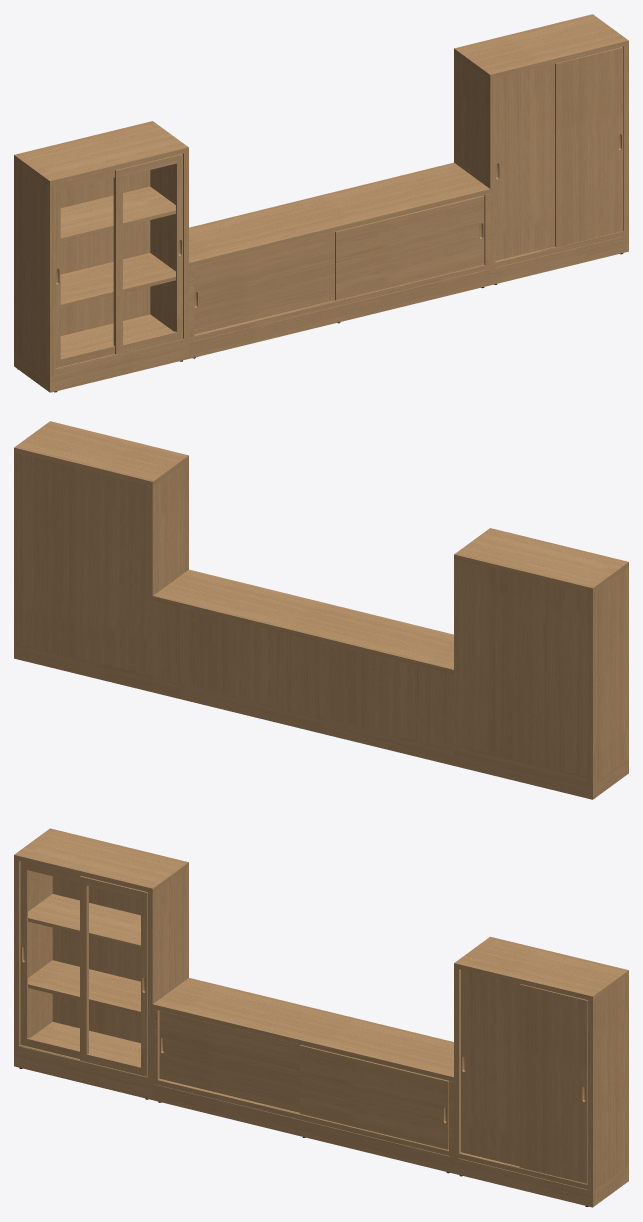
File: tonstad_rega_na_tv_z_przesuwanymi_drzwiami_29515065.glb
The picture shows the model from 3 angles, top to bottom: view 1: azimuth 30°, elevation 25°; view 2: azimuth 150°, elevation 25°; view 3: azimuth 330°, elevation 25°; orthographic projection.
Parts seen in each view (by area): view 1: tonstad_rega_na_tv_z_przesuwanymi_drzwiami_29515065; view 2: tonstad_rega_na_tv_z_przesuwanymi_drzwiami_29515065; view 3: tonstad_rega_na_tv_z_przesuwanymi_drzwiami_29515065.
Part boxes in pixels (x1,y1,x2,y2): tonstad_rega_na_tv_z_przesuwanymi_drzwiami_29515065: (14,14,628,392); tonstad_rega_na_tv_z_przesuwanymi_drzwiami_29515065: (14,421,628,799); tonstad_rega_na_tv_z_przesuwanymi_drzwiami_29515065: (14,828,628,1207).
Size of what is drawn, in the model's own units: 3.42 by 1.2 by 0.371.
Materials: 16 (4 with a texture image).
